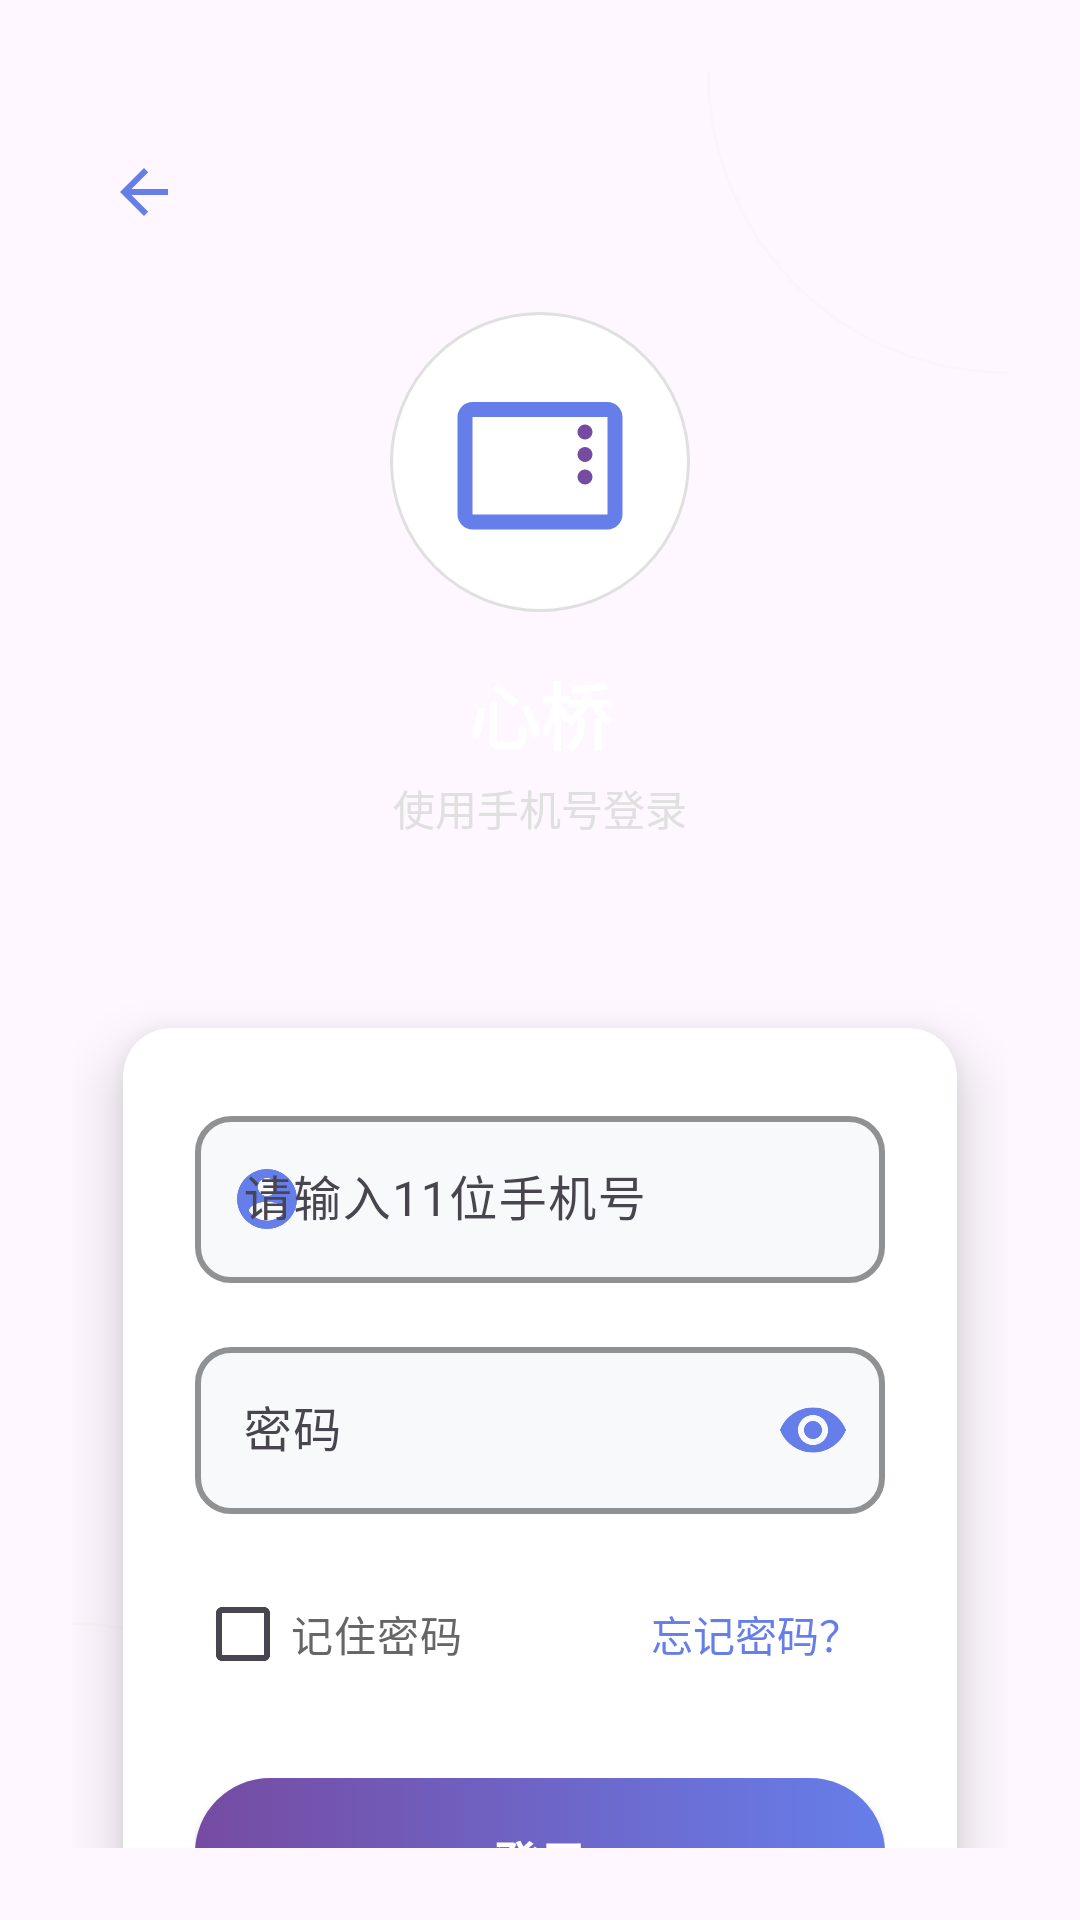

Named icons in this screenshot (1080px×1920px) and their bounding boxes, {"x1": x1, "y1": y1, "x2": x2, "y2": y2}:
返回: {"x1": 120, "y1": 168, "x2": 168, "y2": 216}
